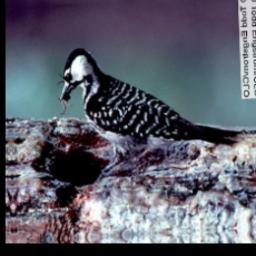Woodpecker: (55, 37, 238, 172)
